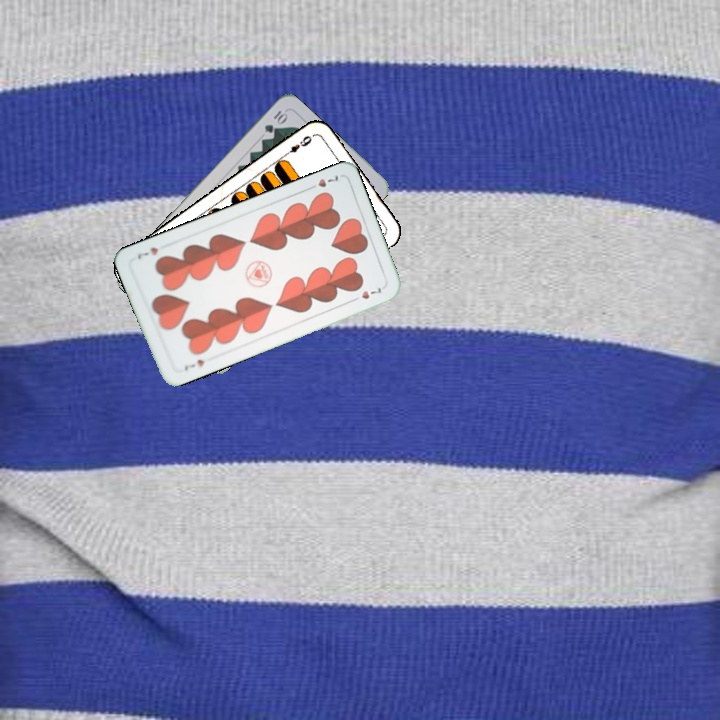E9: (280, 131, 315, 159)
G10: (260, 106, 290, 136)
H7: (304, 171, 341, 193), (180, 355, 207, 373)
